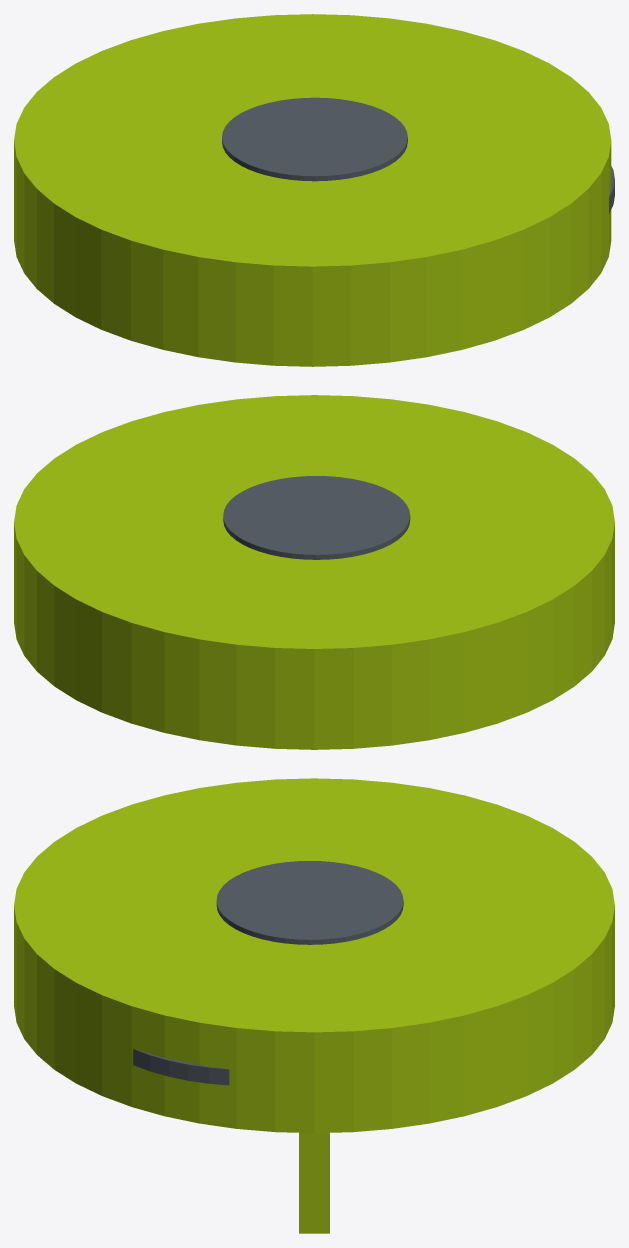
Rendered from gsap-icon.glb.
3 views of the same model, one above another, from view 1: azimuth 30°, elevation 25°; view 2: azimuth 150°, elevation 25°; view 3: azimuth 270°, elevation 25° (orthographic).
Visible parts, largest first — view 1: m0, m3; view 2: m0, m3; view 3: m0, m3, m2, m1.
Part boxes in pixels (box(x1,y1,x2,y2)): m0: box(14, 14, 611, 366); m3: box(222, 97, 407, 181); m0: box(14, 395, 614, 749); m3: box(223, 476, 410, 559); m0: box(14, 778, 614, 1133); m3: box(216, 861, 403, 944); m2: box(299, 1133, 329, 1233); m1: box(133, 1049, 229, 1085).
Bounding box in the file's own units: 2.7 × 1.13 × 2.7.
